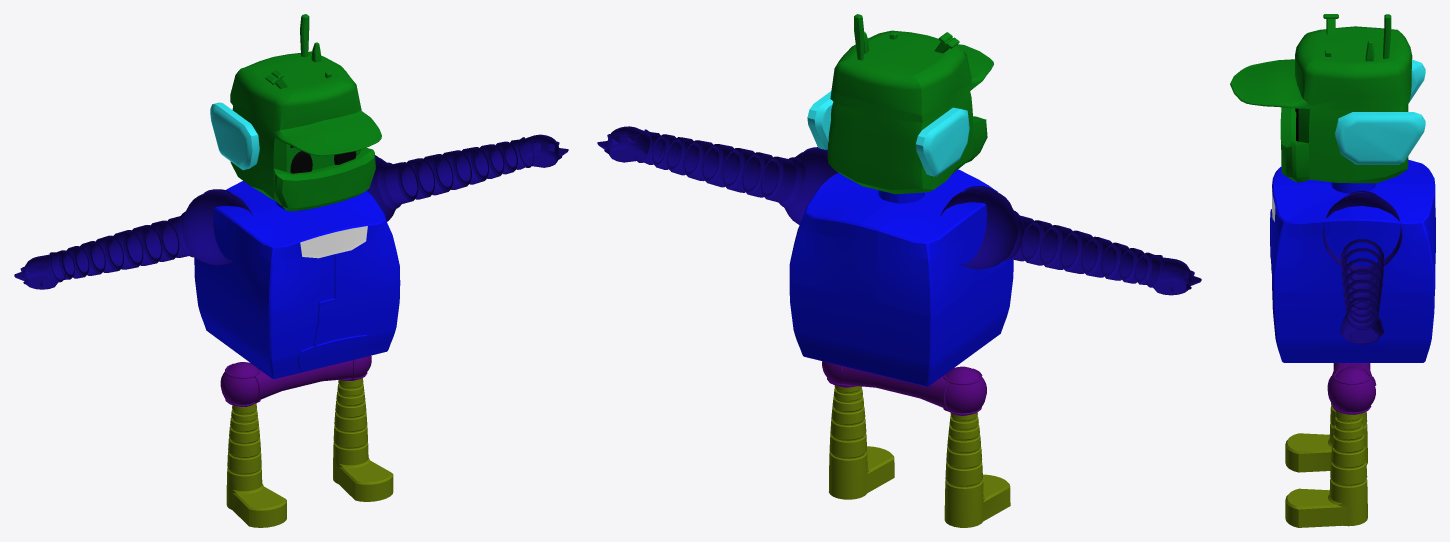
Rendered from KBOT.fbx.
The picture shows the model from 3 angles, left to right: view 1: azimuth 30°, elevation 25°; view 2: azimuth 150°, elevation 25°; view 3: azimuth 270°, elevation 25°; orthographic projection. The views are drawn at different scales.
Visible parts, largest first — view 1: chest (×2), Head, Arms, legs, hips, ears, eyes; view 2: chest, Arms, Head, legs, hips, ears; view 3: chest, Head, legs, Arms, ears, hips.
Boxes of the visible parts, x1=… form: chest (×2): x1=194, y1=181, x2=400, y2=379; Head: x1=230, y1=14, x2=381, y2=211; Arms: x1=14, y1=134, x2=568, y2=289; legs: x1=226, y1=378, x2=393, y2=527; hips: x1=220, y1=355, x2=371, y2=406; ears: x1=210, y1=102, x2=259, y2=170; eyes: x1=290, y1=151, x2=356, y2=173; chest: x1=789, y1=169, x2=1013, y2=386; Arms: x1=597, y1=126, x2=1201, y2=295; Head: x1=827, y1=14, x2=993, y2=194; legs: x1=829, y1=385, x2=1010, y2=527; hips: x1=822, y1=361, x2=986, y2=415; ears: x1=807, y1=91, x2=969, y2=176; chest: x1=1270, y1=159, x2=1435, y2=362; Head: x1=1230, y1=14, x2=1412, y2=183; legs: x1=1285, y1=403, x2=1367, y2=527; Arms: x1=1323, y1=191, x2=1402, y2=344; ears: x1=1335, y1=60, x2=1425, y2=164; hips: x1=1327, y1=363, x2=1376, y2=414.
Size of the model in its own units: 26538 by 21251 by 8118.
